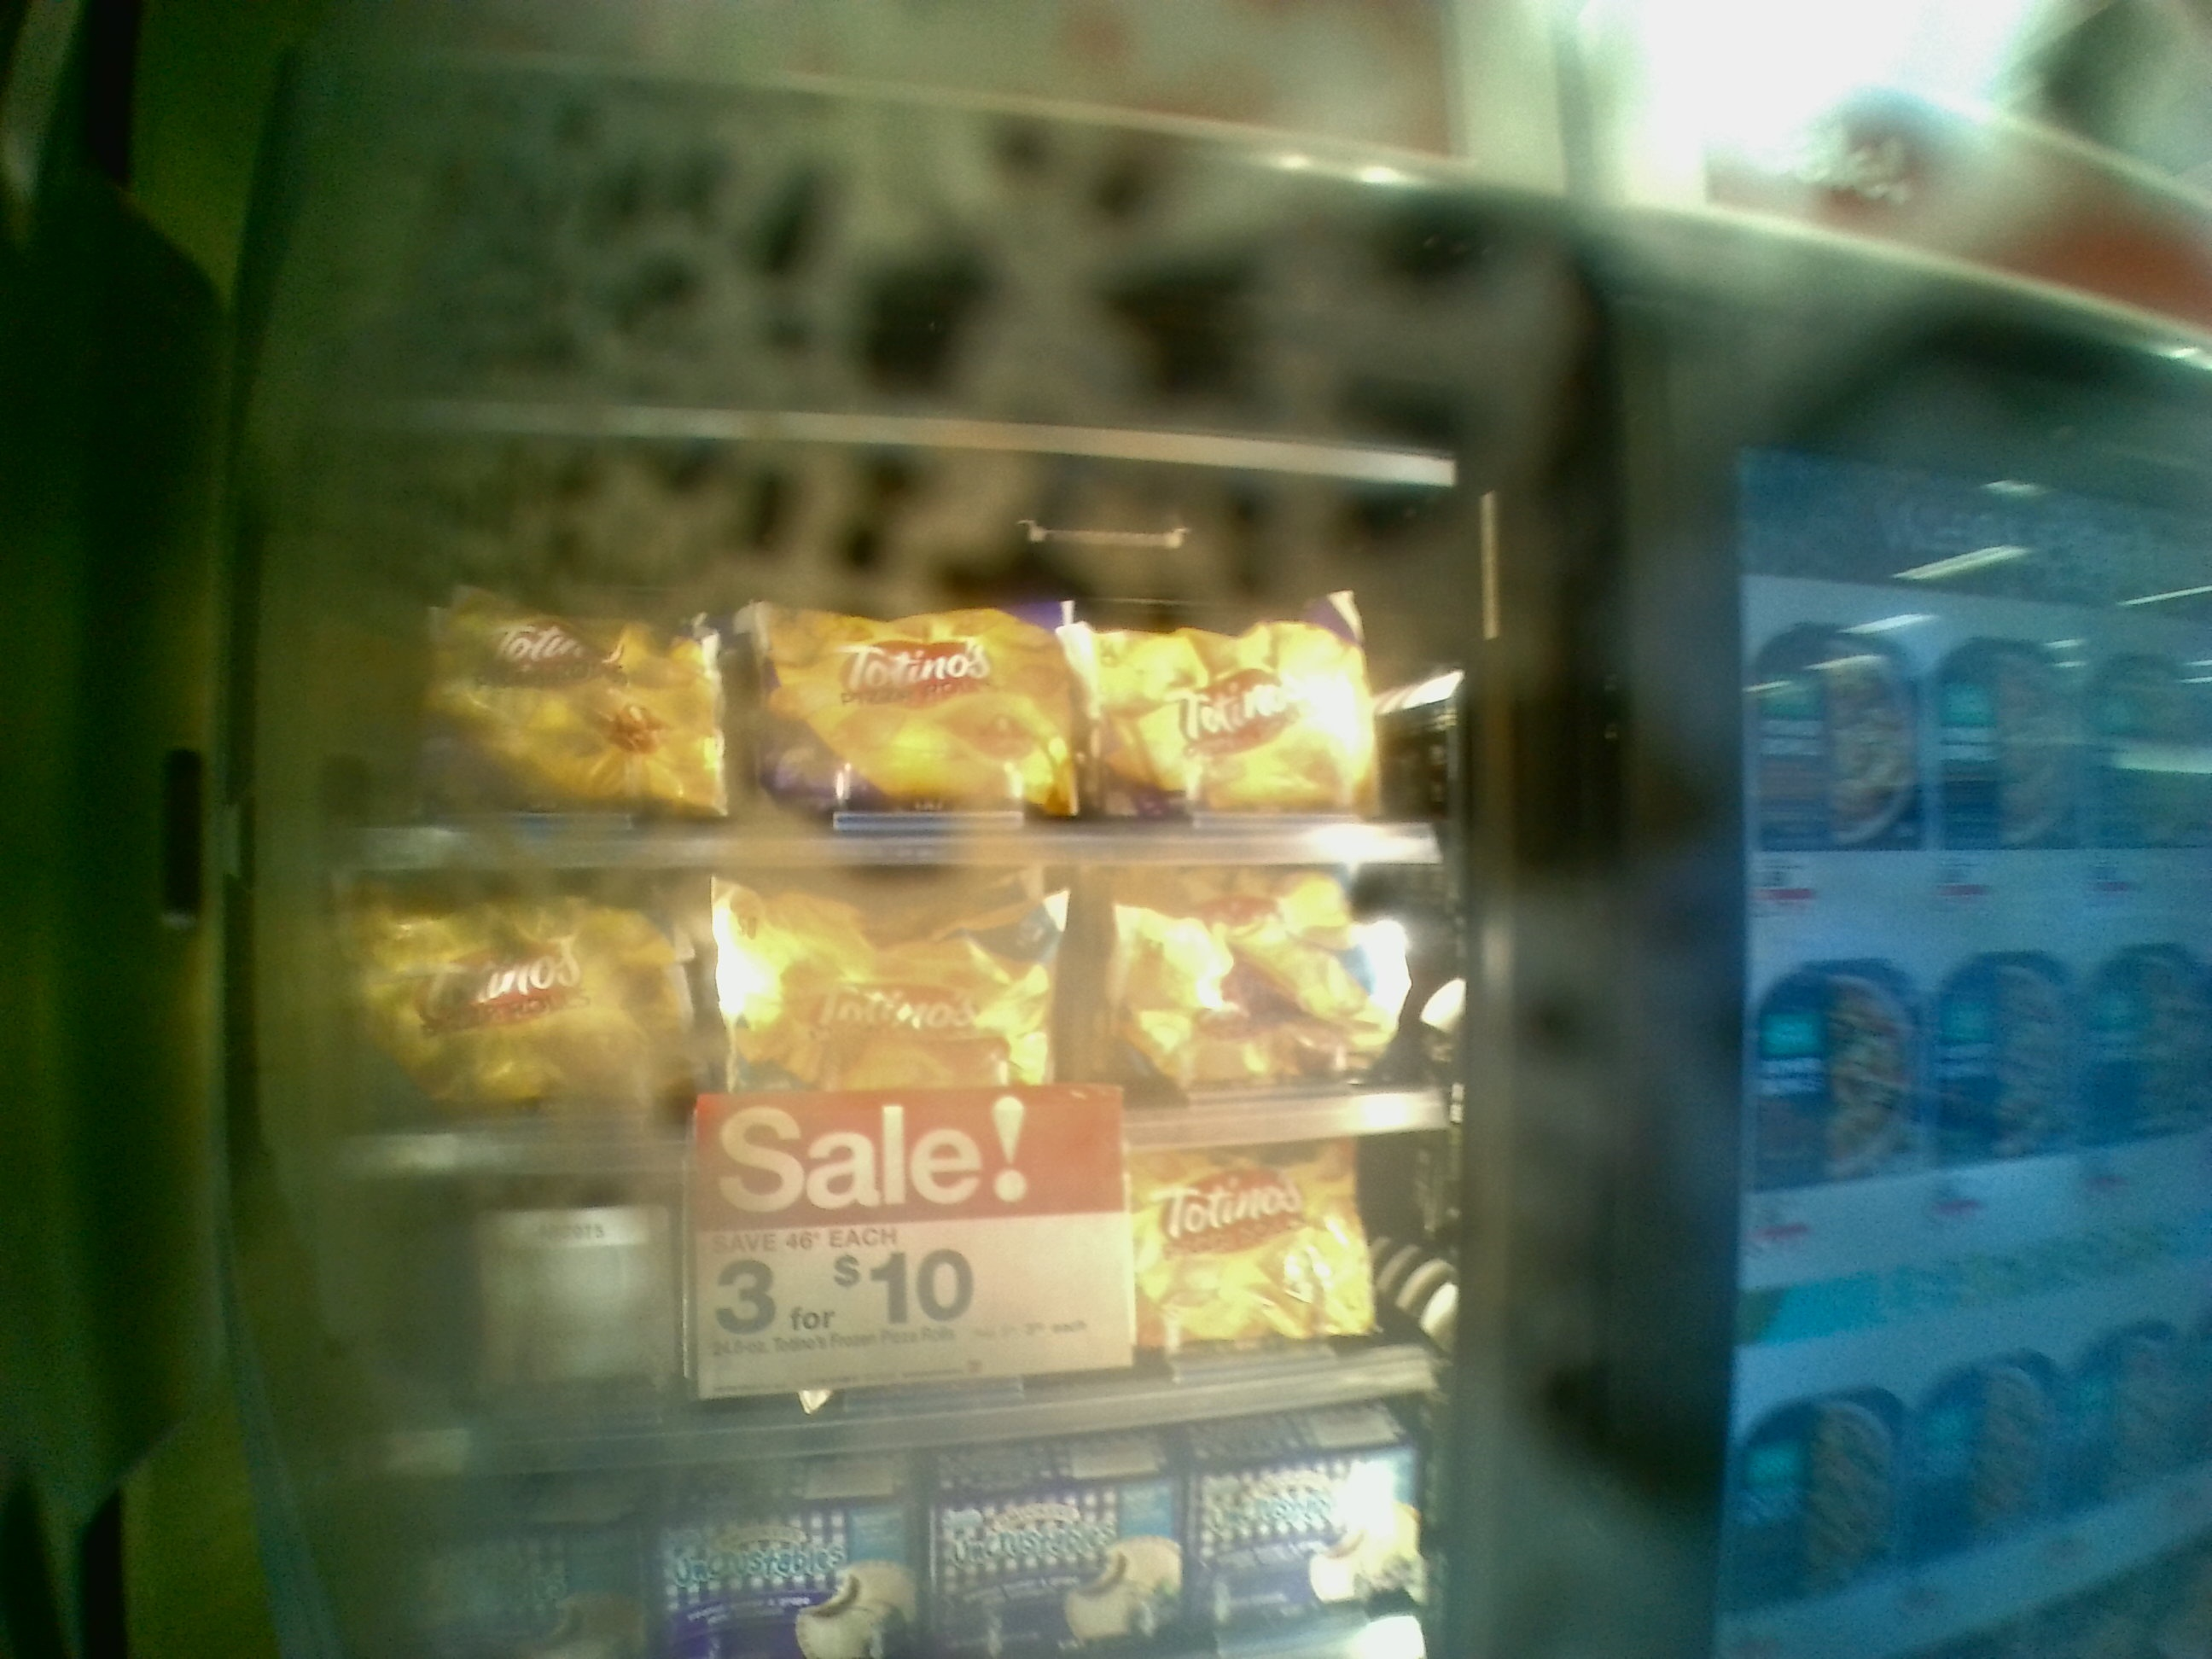shelf: (310, 427, 1472, 852), (326, 843, 1460, 1175)
